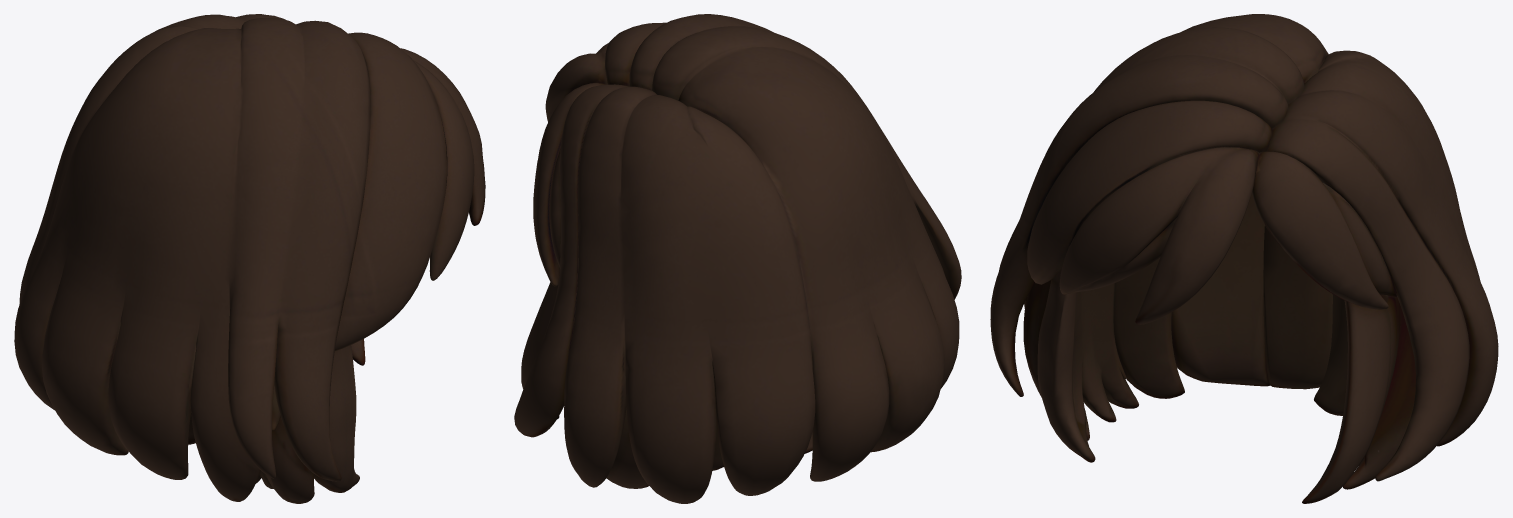
The model's file is bob-hair.glb.
3 renders of one model, left to right at view 1: azimuth 30°, elevation 25°; view 2: azimuth 150°, elevation 25°; view 3: azimuth 270°, elevation 25°, orthographic. The views are drawn at different scales.
Visible parts, largest first — view 1: tripo_node_f7b16bf7-9096-4763-bb43-9c7b7393e3a9; view 2: tripo_node_f7b16bf7-9096-4763-bb43-9c7b7393e3a9; view 3: tripo_node_f7b16bf7-9096-4763-bb43-9c7b7393e3a9.
Boxes of the visible parts, x1,y1,x2,y2 form: tripo_node_f7b16bf7-9096-4763-bb43-9c7b7393e3a9: (14, 14, 485, 503); tripo_node_f7b16bf7-9096-4763-bb43-9c7b7393e3a9: (514, 14, 961, 503); tripo_node_f7b16bf7-9096-4763-bb43-9c7b7393e3a9: (990, 14, 1498, 503).
Size of the model in its own units: 0.9481 by 0.9224 by 1.02.
1 material, 1 textured.
